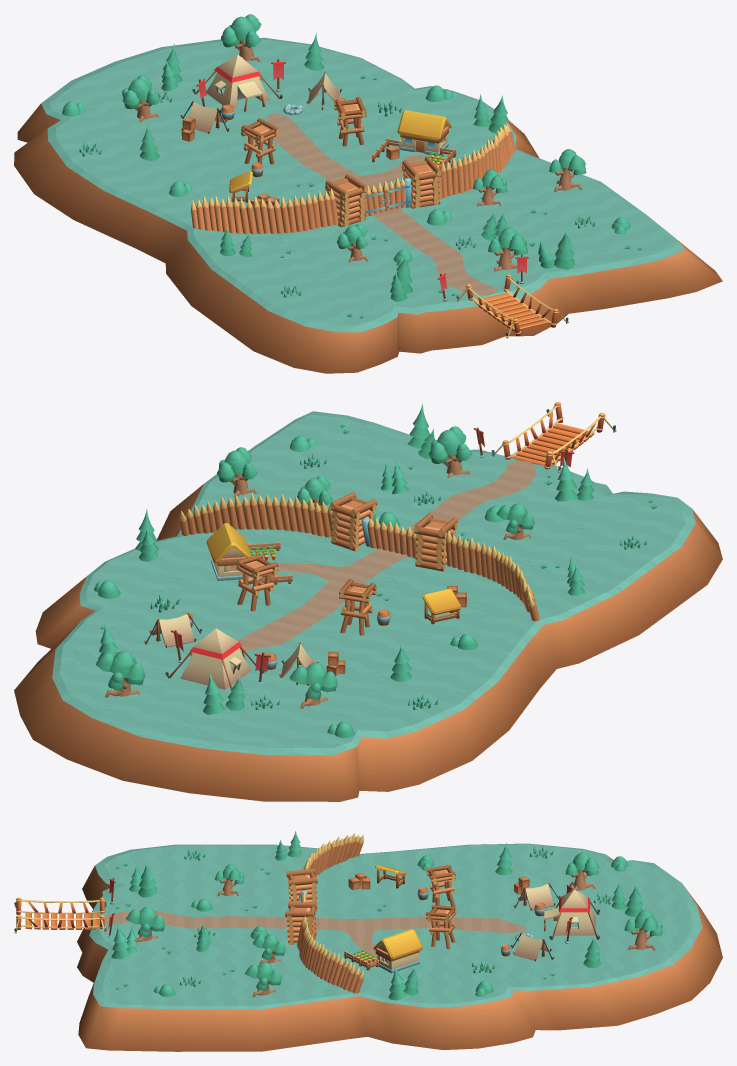
The model's file is env_Enemy_island_1_new_v01.fbx.
3 renders of one model, top to bottom at view 1: azimuth 30°, elevation 25°; view 2: azimuth 150°, elevation 25°; view 3: azimuth 270°, elevation 25°, orthographic. The views are drawn at different scales.
Visible parts, largest first — view 1: Island_1, Road_1, Bridge, Enemy_house_lvl2, Forrest_Tree _06.004, farm_lvl2.015, Forrest_Tree _06.003, Forrest_Tree _06.018, Forrest_Tree _06.005, Forrest_Tree _06.001, Forrest_Tree _06.008, Enemy_house_lvl1 (+1 smaller); view 2: Island_1, Road_1, Bridge, Enemy_house_lvl2, Forrest_Tree _06.004, Forrest_Tree _06.018, Forrest_Tree _06.005, Forrest_Tree _06.003, farm_lvl2.015, Enemy_house_lvl1_2, farm_deck, Forrest_Tree _06.001 (+2 smaller); view 3: Island_1, Road_1, Bridge, Enemy_house_lvl2, Forrest_Tree _06.004, farm_lvl2.015, Forrest_Tree _06.018, Forrest_Tree _06.003, Forrest_Tree _06.005, Enemy_house_lvl1_2, Enemy_house_lvl1, Forrest_Tree _06.008 (+6 smaller).
Part boxes in pixels (box(x1,y1,x2,y2)): Island_1: box(14, 37, 722, 373); Road_1: box(266, 114, 497, 295); Bridge: box(456, 274, 568, 338); Enemy_house_lvl2: box(192, 54, 282, 113); Forrest_Tree _06.004: box(221, 14, 261, 61); farm_lvl2.015: box(397, 110, 451, 140); Forrest_Tree _06.003: box(122, 75, 160, 122); Forrest_Tree _06.018: box(488, 227, 527, 271); Forrest_Tree _06.005: box(549, 149, 586, 191); Forrest_Tree _06.001: box(337, 223, 367, 262); Forrest_Tree _06.008: box(473, 169, 507, 206); Enemy_house_lvl1: box(180, 101, 229, 133); Island_1: box(14, 411, 722, 801); Road_1: box(238, 460, 536, 651); Bridge: box(491, 402, 616, 472); Enemy_house_lvl2: box(165, 628, 264, 691); Forrest_Tree _06.004: box(96, 651, 145, 697); Forrest_Tree _06.018: box(429, 426, 472, 478); Forrest_Tree _06.005: box(217, 447, 257, 497); Forrest_Tree _06.003: box(289, 662, 337, 708); farm_lvl2.015: box(206, 523, 251, 563); Enemy_house_lvl1_2: box(143, 612, 202, 647); farm_deck: box(422, 589, 461, 624); Forrest_Tree _06.001: box(496, 503, 534, 539); Island_1: box(77, 843, 722, 1051); Road_1: box(104, 910, 526, 933); Bridge: box(14, 897, 106, 933); Enemy_house_lvl2: box(544, 889, 600, 939); Forrest_Tree _06.004: box(624, 909, 662, 950); farm_lvl2.015: box(373, 929, 422, 959); Forrest_Tree _06.018: box(126, 907, 165, 942); Forrest_Tree _06.003: box(565, 852, 599, 890); Forrest_Tree _06.005: box(245, 962, 281, 997); Enemy_house_lvl1_2: box(510, 932, 554, 961); Enemy_house_lvl1: box(513, 883, 560, 910); Forrest_Tree _06.008: box(253, 934, 285, 964).
Size of the model in its own units: 7491 by 1318 by 11899.
